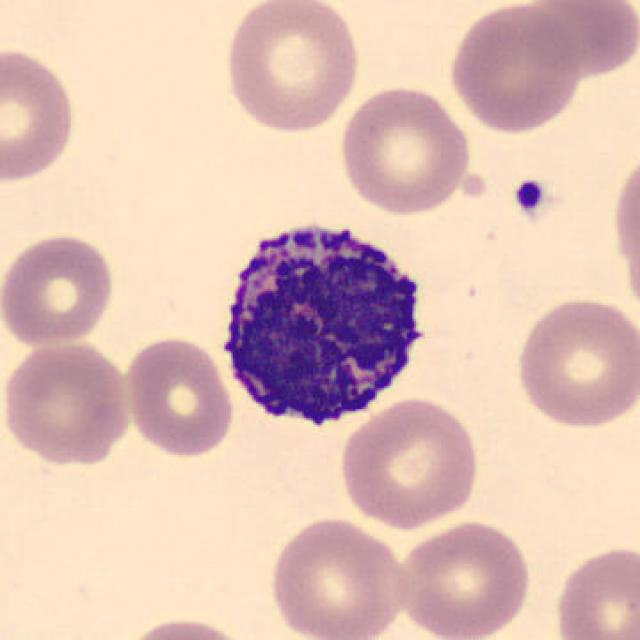Basophil: (208, 203, 441, 441)
Platelets: (510, 174, 550, 220)
RBC: (336, 393, 484, 531), (218, 0, 364, 136), (336, 81, 475, 217), (265, 513, 412, 640), (446, 2, 585, 136), (0, 335, 135, 467), (510, 293, 638, 432), (394, 516, 535, 640), (121, 333, 236, 460), (0, 229, 119, 351), (0, 42, 80, 185), (515, 0, 640, 79), (550, 541, 638, 640), (608, 146, 640, 319), (115, 613, 257, 640)
